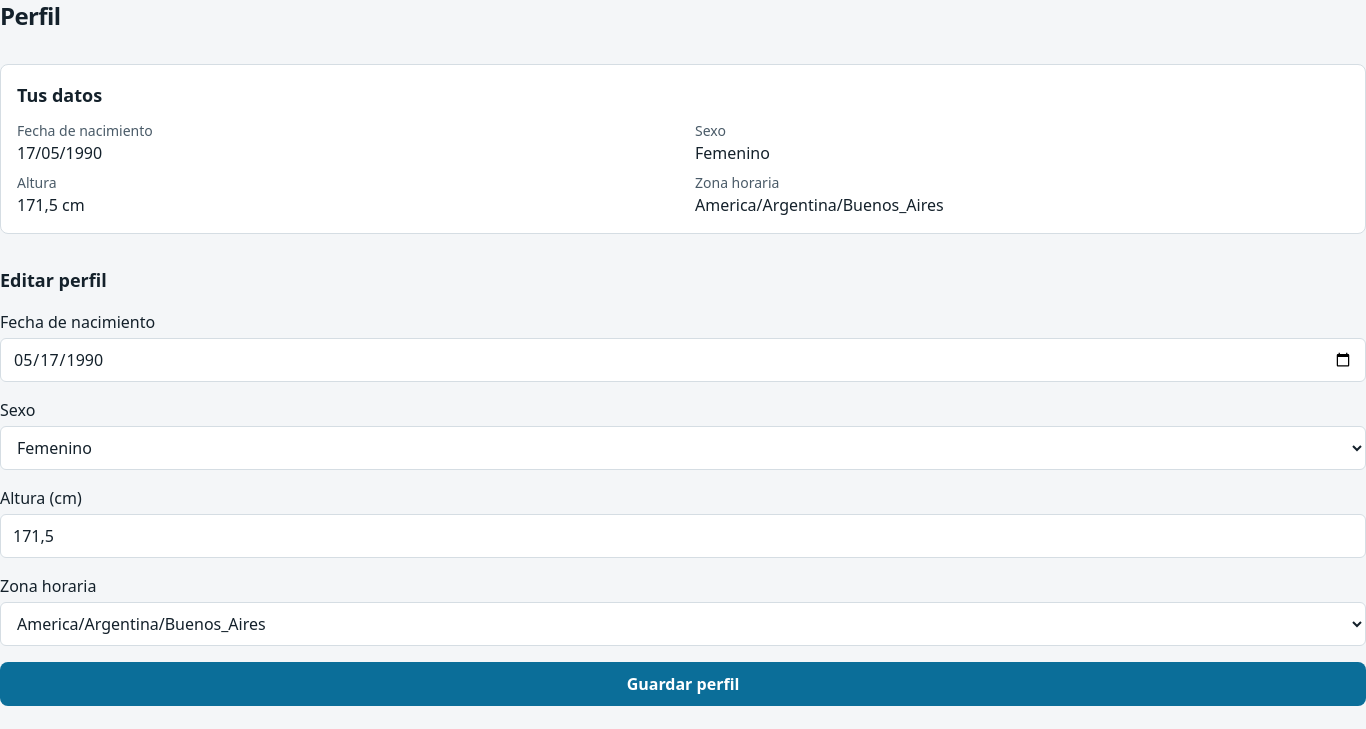
Test: ProfilePage: formulario › FR-020: si falla la red avisa que no se guardó y conserva lo escrito
Replace the text in the field labelled "Altura (cm)" with "180" at [683, 536], box [0,514,1365,558]
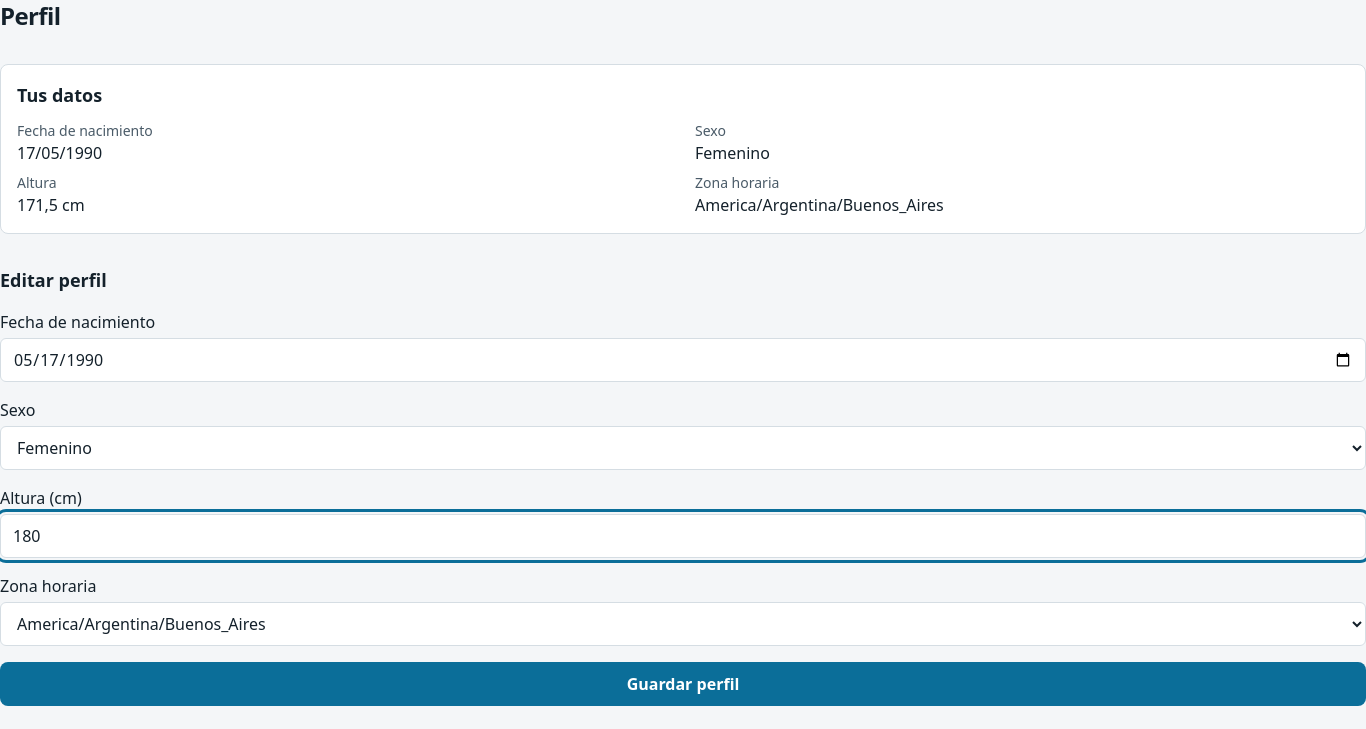
Click the button "Guardar perfil" at [683, 684], box [0,662,1365,706]
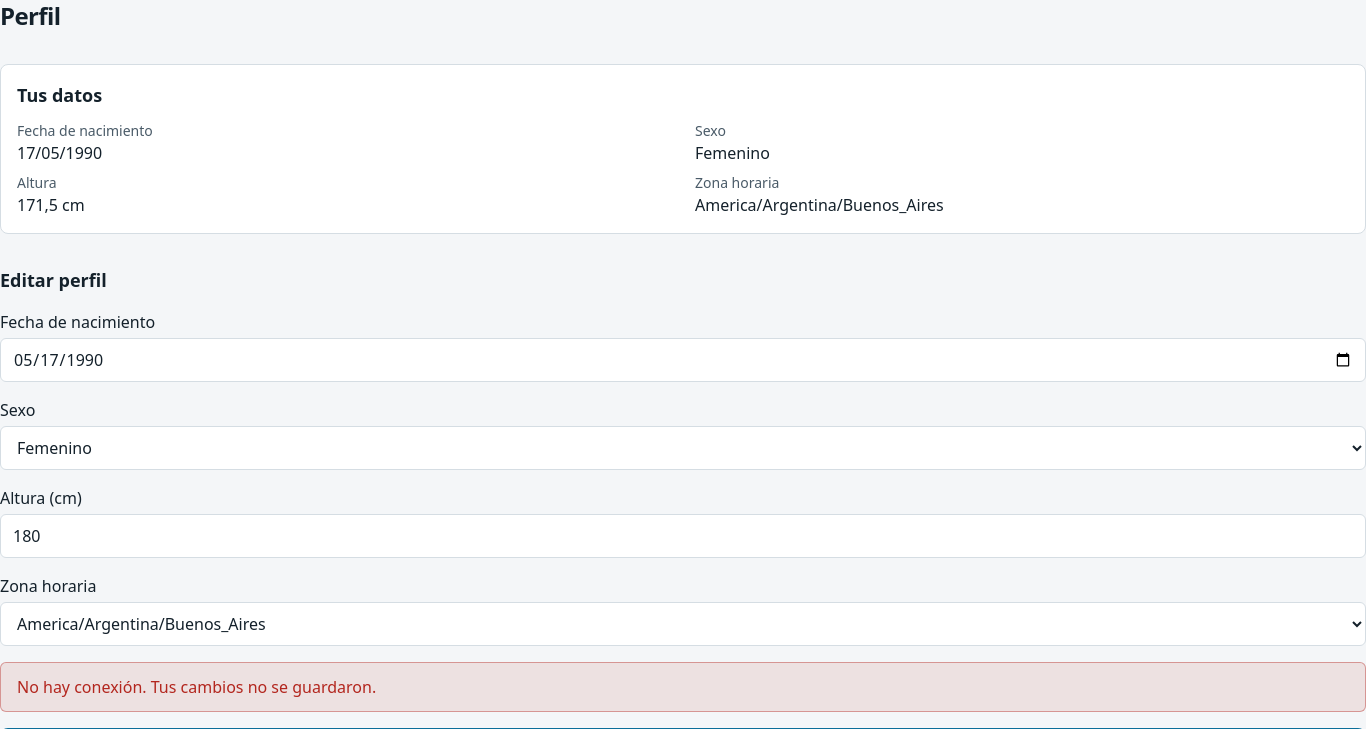
Check: the message reads "No hay conexión. Tus cambios no se guardaron.", box [17,676,376,698]
